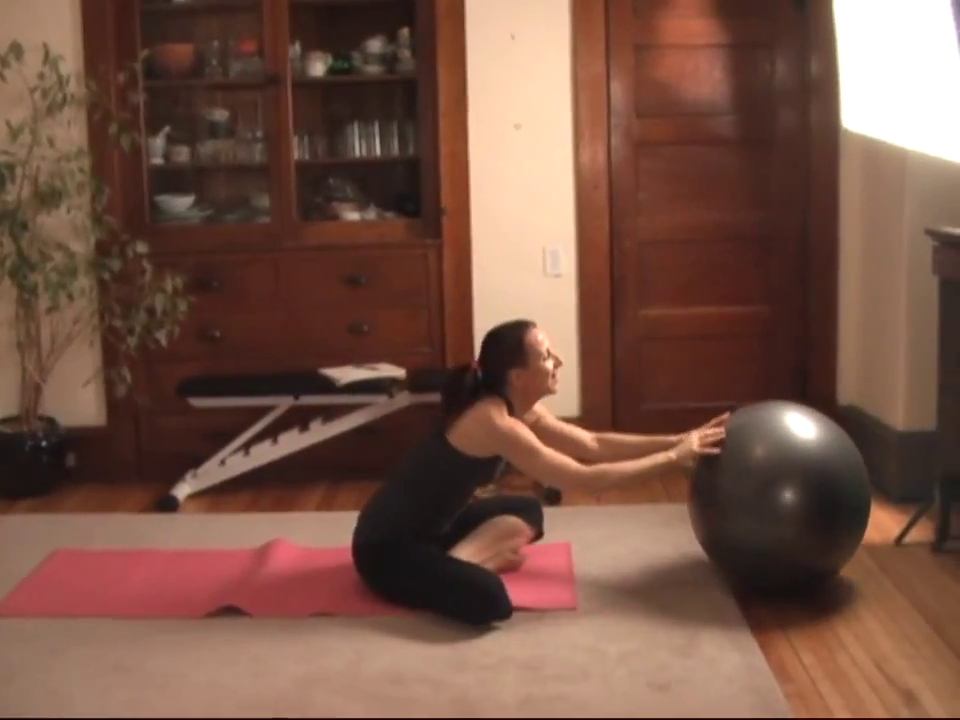person: (352, 318, 730, 626)
